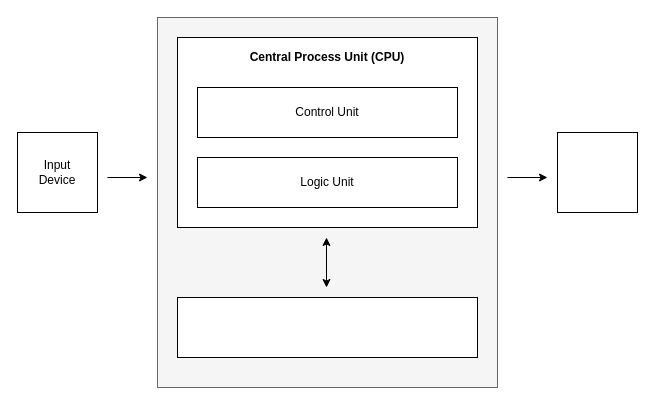
The diagram is 655 pixels wide and 405 high, and some of its shapes have lost their labels. Each missing label, with the centre of its shape:
"Memory Unit" goes at pixel 327 327.
"Output Device" goes at pixel 597 172.
